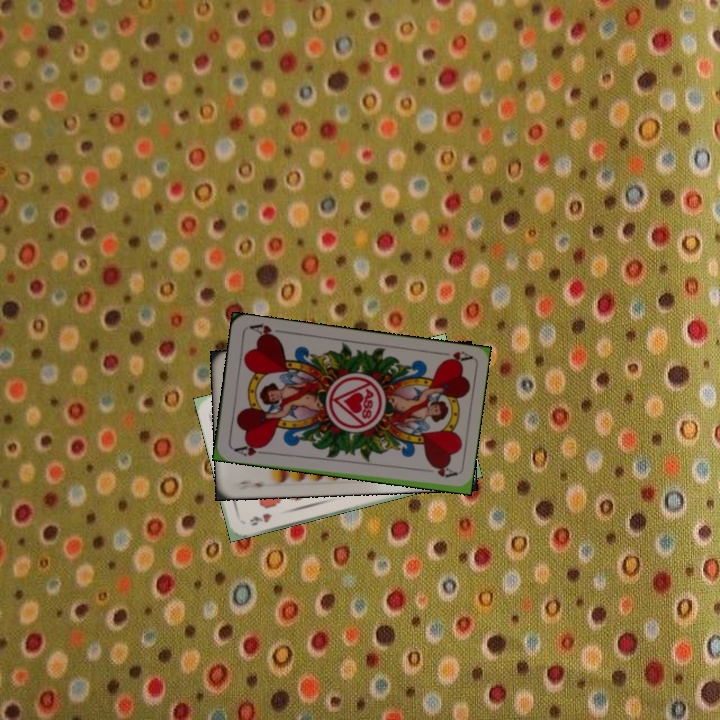E9: (232, 477, 271, 492)
H9: (246, 509, 274, 528)
HA: (432, 347, 473, 367), (230, 440, 270, 459)
